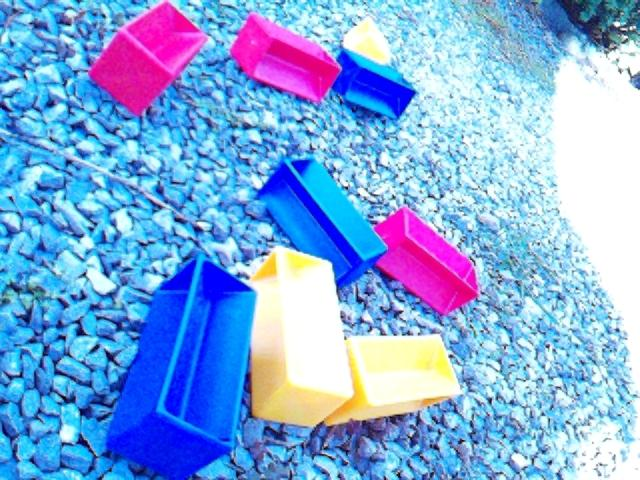blue: (105, 253, 258, 480), (255, 156, 389, 289), (331, 47, 417, 120)
red: (88, 1, 208, 117), (372, 205, 481, 316), (230, 12, 342, 105)
yellow: (247, 246, 355, 428), (324, 333, 462, 427), (342, 17, 392, 67)
